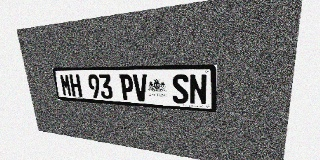3: (98, 74, 113, 99)
9: (87, 74, 101, 98)
H: (69, 74, 82, 97)
M: (59, 74, 72, 97)
N: (189, 74, 207, 105)
P: (119, 74, 134, 101)
S: (172, 74, 189, 104)
V: (133, 74, 148, 101)
